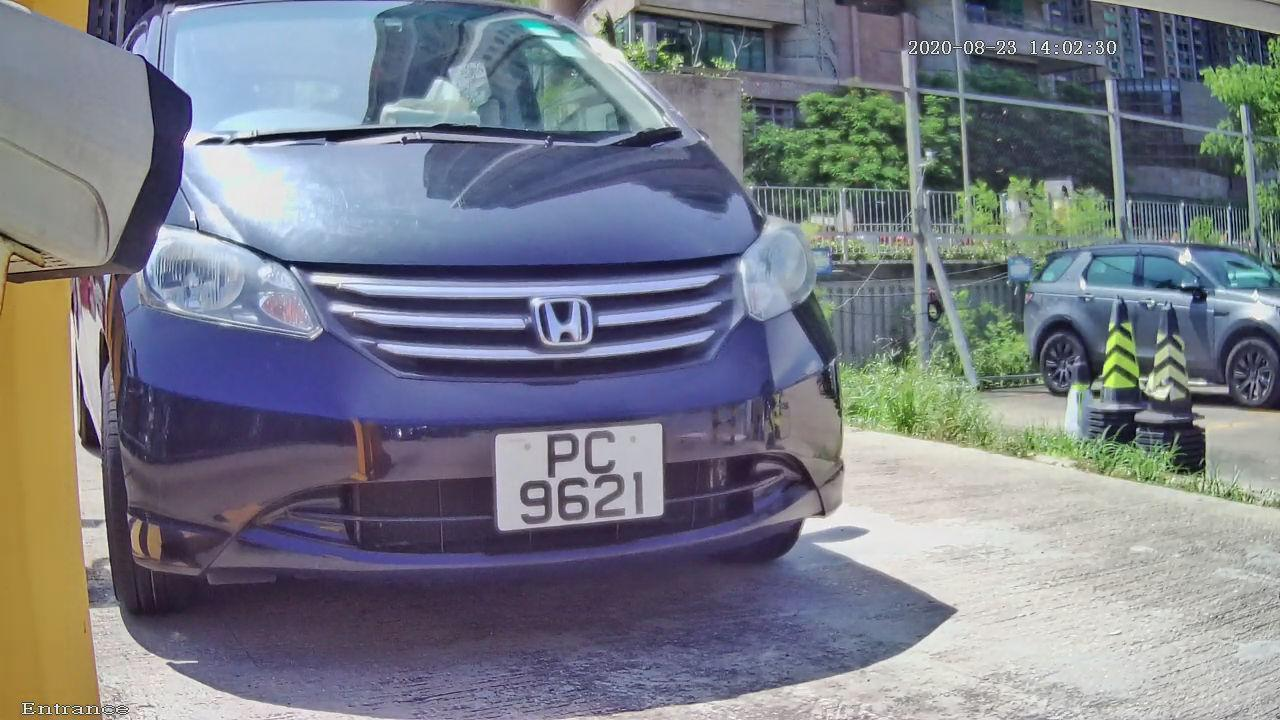Car: (18, 7, 869, 666)
License Plate: (475, 412, 669, 541)
